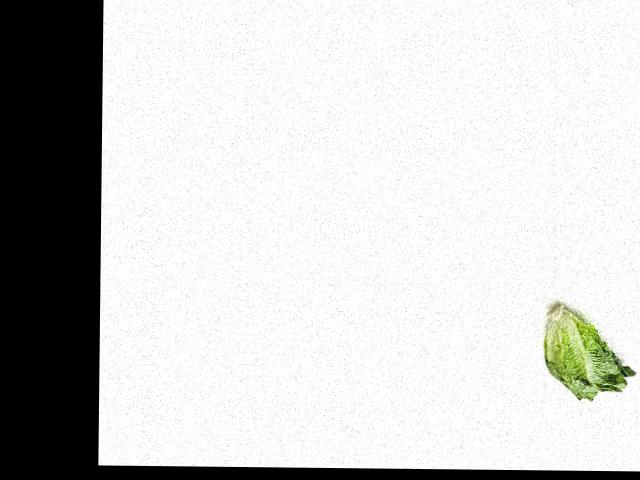lettuce: (540, 306, 636, 405)
